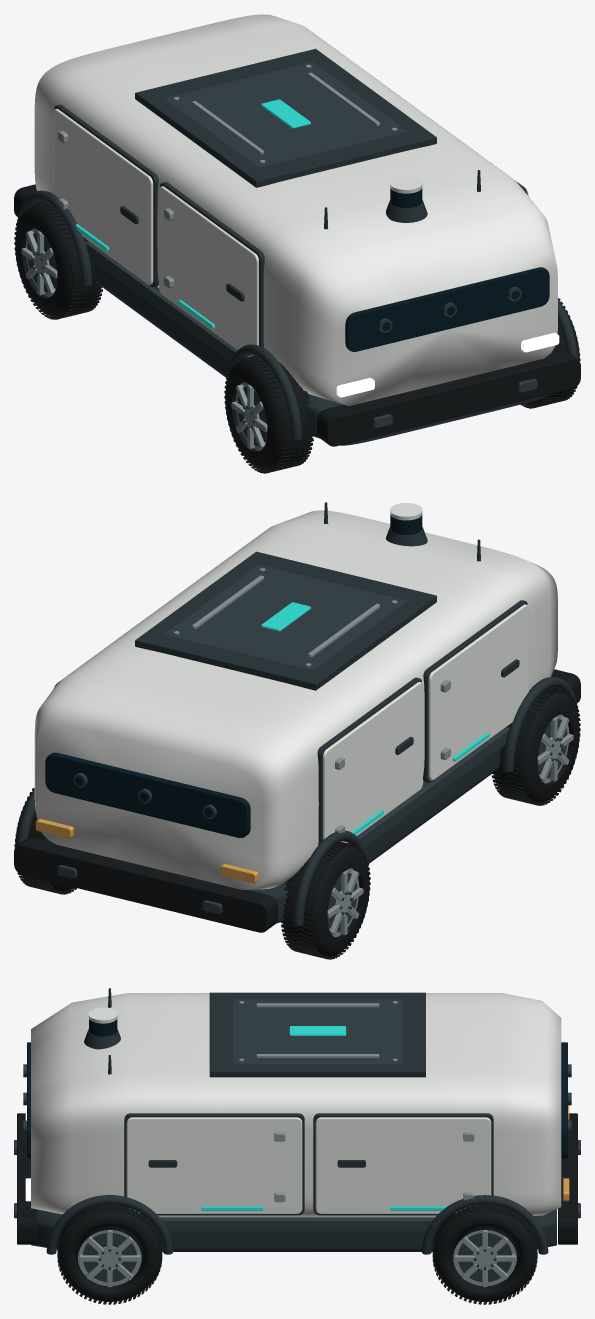
Rendered from mother-carrier-original.glb.
The picture shows the model from 3 angles, top to bottom: view 1: azimuth 30°, elevation 25°; view 2: azimuth 150°, elevation 25°; view 3: azimuth 270°, elevation 25°; orthographic projection. The views are drawn at different scales.
Parts seen in each view (by area): view 1: static-ceramic_paint, static-tyre_rubber (×4), static-graphite_composite, static-anodized_metal (×2), static-sensor_glass, static-brushed_aluminium (×3), static-headlight, static-status_strip; view 2: static-ceramic_paint, static-tyre_rubber (×4), static-graphite_composite, static-anodized_metal (×2), static-sensor_glass, static-brushed_aluminium (×3), static-reflector, static-status_strip; view 3: static-ceramic_paint, static-graphite_composite, static-anodized_metal (×4), static-tyre_rubber (×3), static-brushed_aluminium (×4), static-sensor_glass, static-status_strip (×2).
Boxes of the visible parts, x1,y1,x2,y2 form: static-ceramic_paint: (34,14,557,405); static-tyre_rubber (×4): (14,184,580,473); static-graphite_composite: (16,48,578,445); static-anodized_metal (×2): (85,62,537,428); static-sensor_glass: (345,188,549,351); static-brushed_aluminium (×3): (21,64,397,450); static-headlight: (336,332,559,397); static-status_strip: (261,99,310,128); static-ceramic_paint: (34,503,557,889); static-tyre_rubber (×4): (14,669,580,959); static-graphite_composite: (16,502,578,925); static-anodized_metal (×2): (57,565,509,914); static-sensor_glass: (45,515,422,837); static-brushed_aluminium (×3): (174,568,573,937); static-reflector: (35,819,258,883); static-status_strip: (261,602,310,631); static-ceramic_paint: (31,993,561,1217); static-graphite_composite: (31,988,556,1254); static-anodized_metal (×4): (14,999,580,1281); static-tyre_rubber (×3): (17,1113,577,1304); static-brushed_aluminium (×4): (78,1001,516,1287); static-sensor_glass: (27,1019,567,1158); static-status_strip (×2): (201,1026,447,1210).
Bounding box in the file's own units: 2.35 × 1.83 × 4.17.
